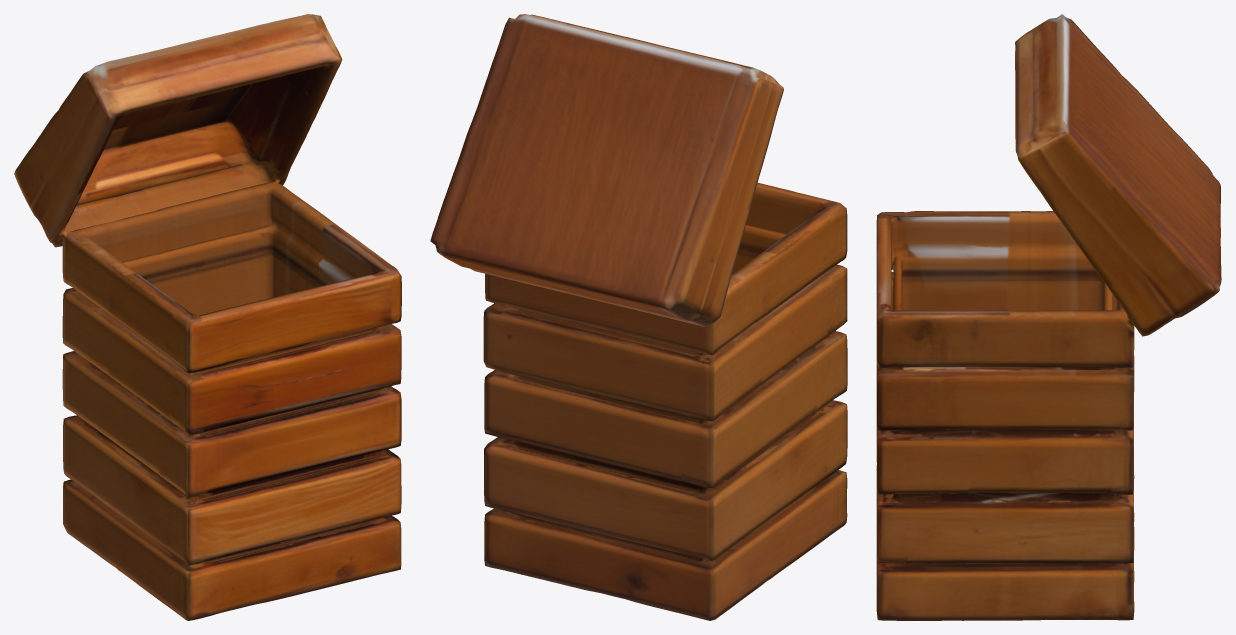
The model's file is Wooden_Storage_Crate_0113133156.glb.
The picture shows the model from 3 angles, left to right: view 1: azimuth 30°, elevation 25°; view 2: azimuth 150°, elevation 25°; view 3: azimuth 270°, elevation 25°; orthographic projection. The views are drawn at different scales.
Bounding box in the file's own units: 1 × 2 × 1.25.
Materials: 1 (1 with a texture image).
